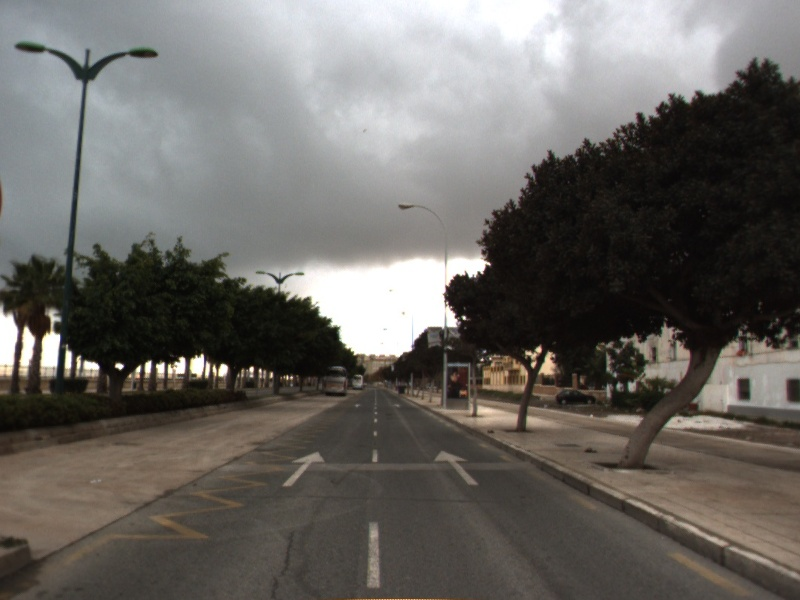STRAIGHT: (432, 448, 480, 487), (281, 449, 328, 488)
